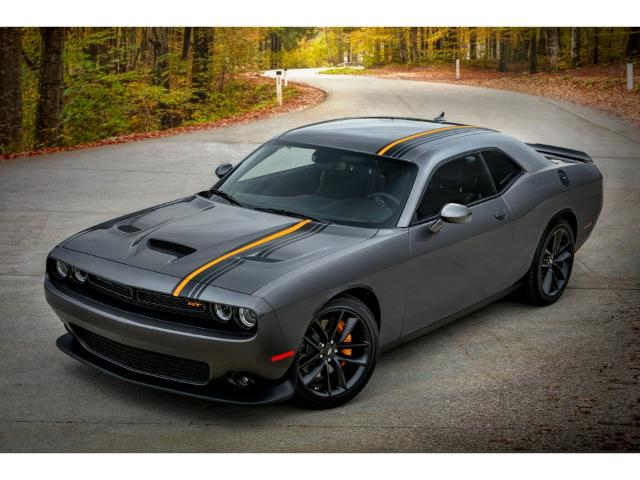dodge: (42, 110, 604, 409)
